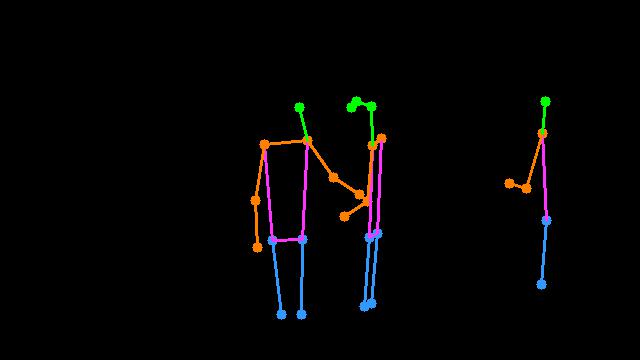normal: (216, 67, 414, 345)
